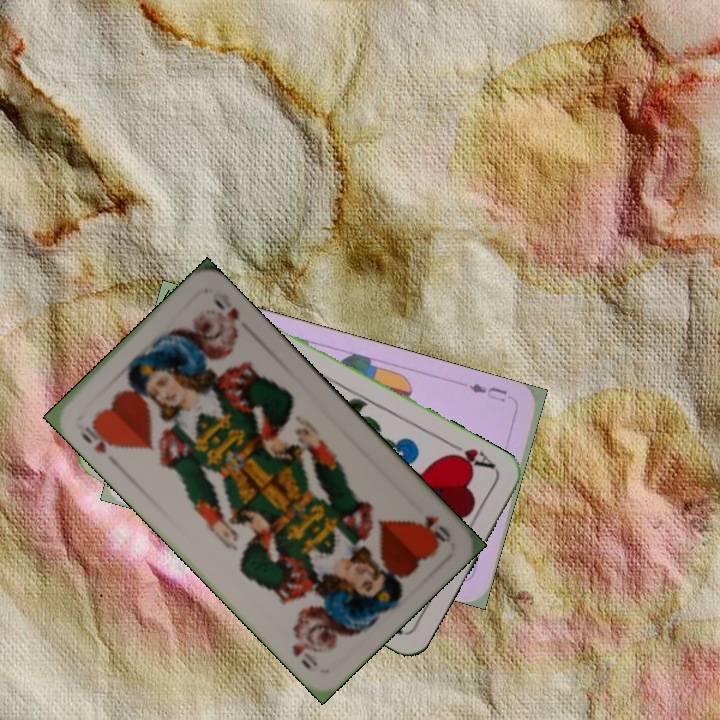EU: (465, 379, 510, 405)
HA: (444, 437, 498, 472)
HO: (77, 418, 120, 457), (420, 511, 454, 547)
